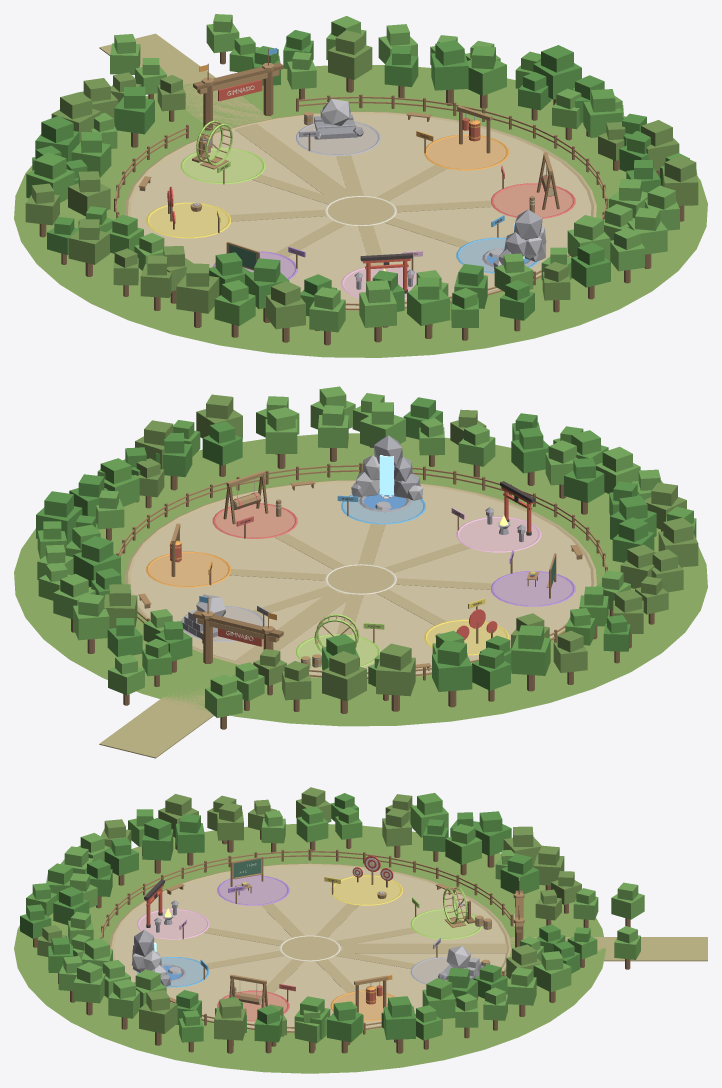
Rendered from gym_original.glb.
3 renders of one model, top to bottom at view 1: azimuth 30°, elevation 25°; view 2: azimuth 150°, elevation 25°; view 3: azimuth 270°, elevation 25°, orthographic. The views are drawn at different scales.
Parts seen in each view (by area): view 1: GymGround-col, GymArena, GymPath-col, GymSpokeEntry, Fuerza_pad, Tecnica_pad, GymArenaBorder, Vitalidad_pad, Agilidad_pad, GymCenterCircle, Resistencia_pad, gym_tree_crown_51 (+68 smaller); view 2: GymGround-col, GymArena, GymPath-col, GymArenaBorder, Fuerza_pad, Inteligencia_pad, Vitalidad_pad, Espiritu_pad, GymSpokeEntry, GymCenterCircle, gym_tree_crown_45, gym_tree_crown_43 (+57 smaller); view 3: GymGround-col, GymArena, GymPath-col, GymSpokeEntry, Tecnica_pad, Inteligencia_pad, GymArenaBorder, Espiritu_pad, Agilidad_pad, GymCenterCircle, gym_tree_crown_64, gym_tree_crown_33 (+52 smaller).
Boxes of the visible parts, x1,y1,x2,y2 form: GymGround-col: (14, 65, 707, 357); GymArena: (130, 113, 591, 308); GymPath-col: (99, 33, 271, 131); GymSpokeEntry: (235, 124, 352, 198); Fuerza_pad: (427, 136, 506, 169); Tecnica_pad: (149, 203, 227, 236); GymArenaBorder: (125, 111, 596, 310); Vitalidad_pad: (494, 184, 572, 217); Agilidad_pad: (183, 149, 262, 182); GymCenterCircle: (327, 197, 394, 224); Resistencia_pad: (299, 123, 377, 154); gym_tree_crown_51: (176, 274, 219, 313); GymGround-col: (14, 433, 707, 726); GymArena: (130, 482, 591, 676); GymPath-col: (99, 687, 213, 758); GymArenaBorder: (125, 480, 596, 677); Fuerza_pad: (149, 553, 227, 586); Inteligencia_pad: (494, 572, 572, 605); Vitalidad_pad: (215, 504, 294, 537); Espiritu_pad: (459, 518, 538, 551); GymSpokeEntry: (235, 590, 348, 664); GymCenterCircle: (327, 565, 394, 593); gym_tree_crown_45: (511, 636, 550, 675); gym_tree_crown_43: (432, 654, 472, 691); GymGround-col: (14, 824, 606, 1073); GymArena: (113, 865, 505, 1030); GymPath-col: (509, 937, 707, 961); GymSpokeEntry: (342, 943, 507, 953); Tecnica_pad: (333, 876, 400, 904); Inteligencia_pad: (220, 876, 286, 904); GymArenaBorder: (109, 863, 511, 1032); Espiritu_pad: (139, 910, 206, 938); Agilidad_pad: (413, 910, 479, 938); GymCenterCircle: (281, 936, 338, 960); gym_tree_crown_64: (139, 1002, 177, 1033); gym_tree_crown_33: (383, 1006, 415, 1039).
Size of what is drawn, in the model's own units: 64 by 7.35 by 75.
